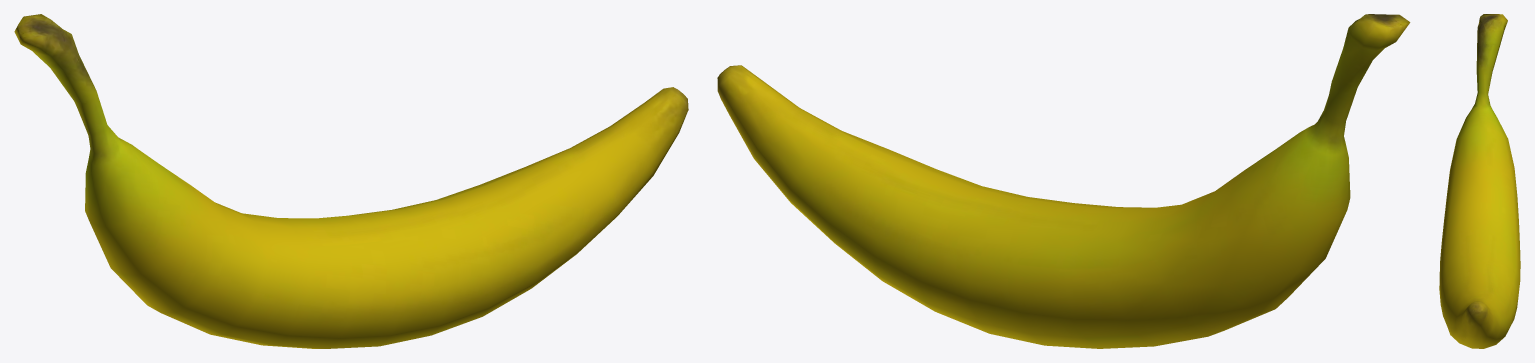
The model's file is banana-v1-transformed.glb.
The picture shows the model from 3 angles, left to right: view 1: azimuth 30°, elevation 25°; view 2: azimuth 150°, elevation 25°; view 3: azimuth 270°, elevation 25°; orthographic projection. The views are drawn at different scales.
Parts seen in each view (by area): view 1: banana_low; view 2: banana_low; view 3: banana_low.
Boxes of the visible parts, bbox=[...] form: banana_low: bbox=[14, 14, 688, 348]; banana_low: bbox=[717, 14, 1410, 348]; banana_low: bbox=[1439, 14, 1520, 348].
Bounding box in the file's own units: 446 × 252 × 85.45.
1 material, 1 textured.
